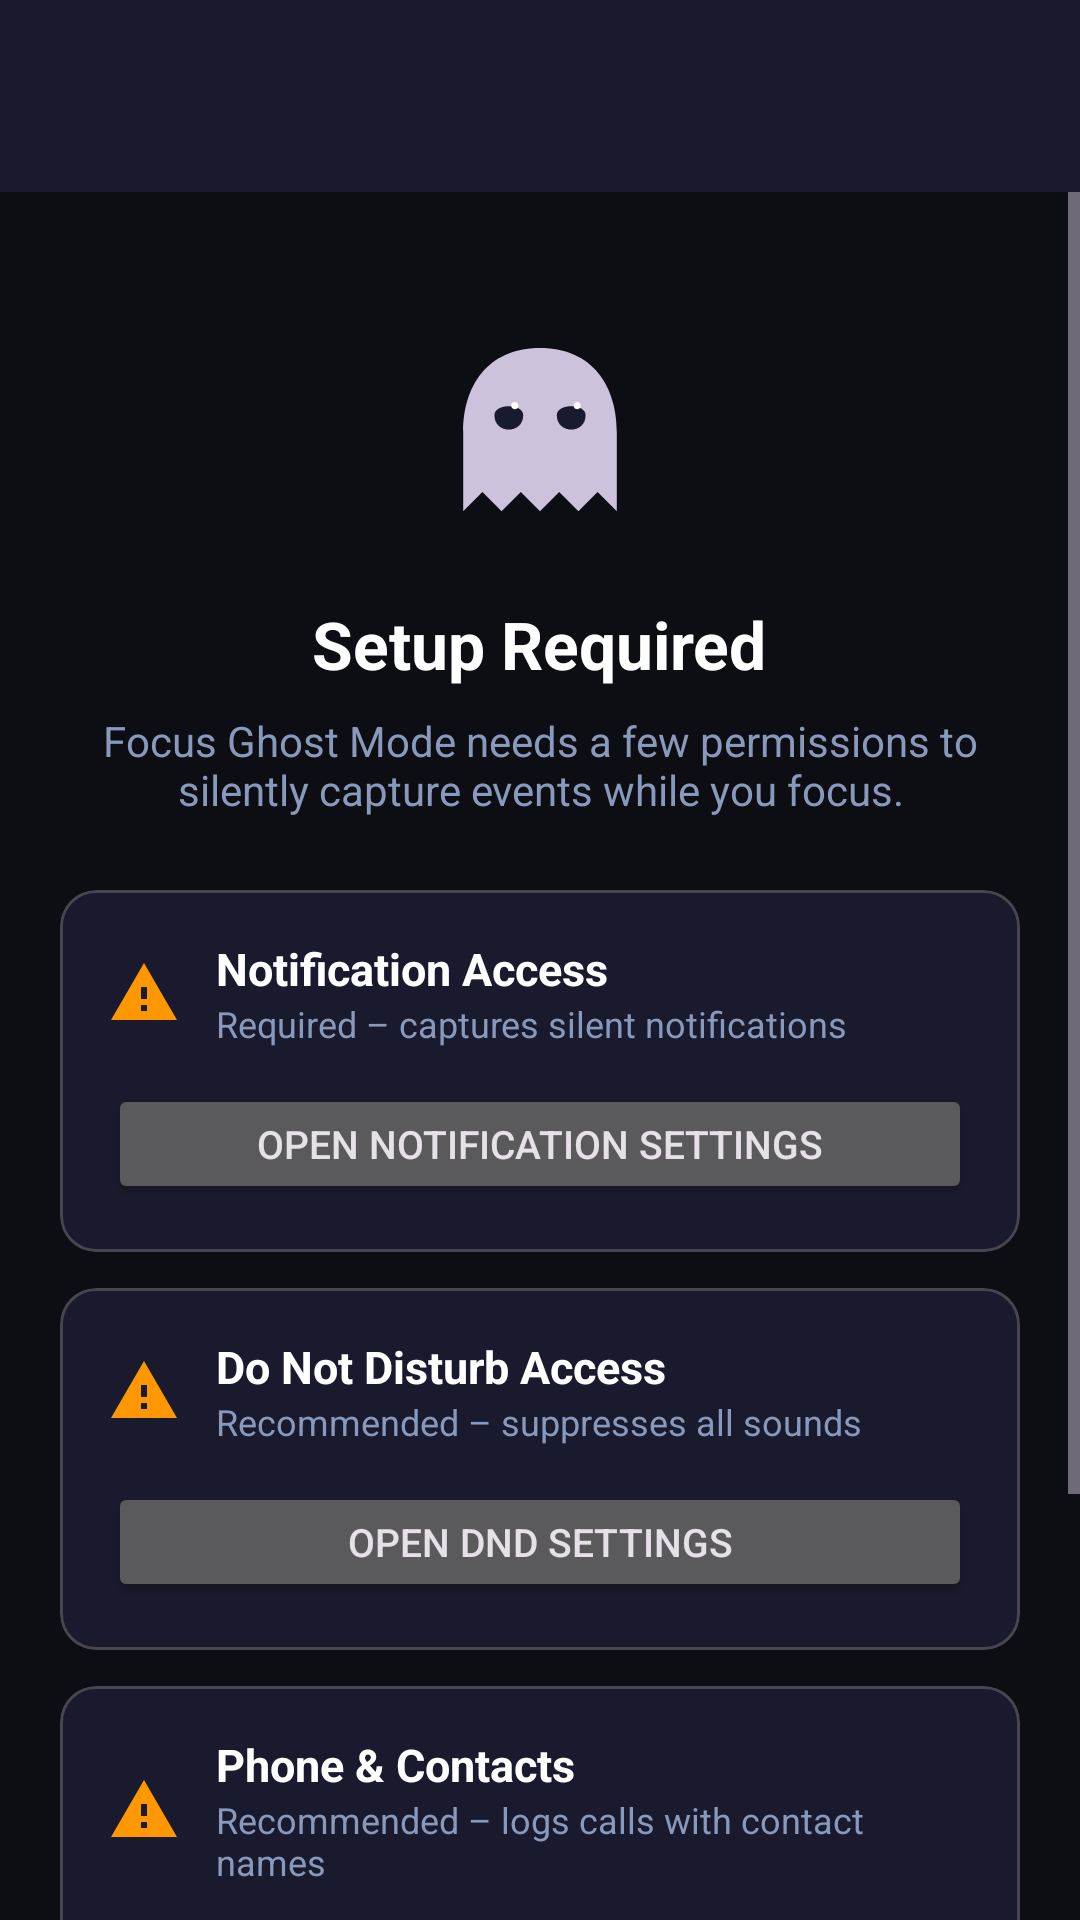

Icon bounding boxes for this 1080*1920 phone screenshot, format (x1, y1, x2, y2):
warning: (111, 963, 177, 1020), (111, 1361, 177, 1418), (111, 1780, 177, 1837)
